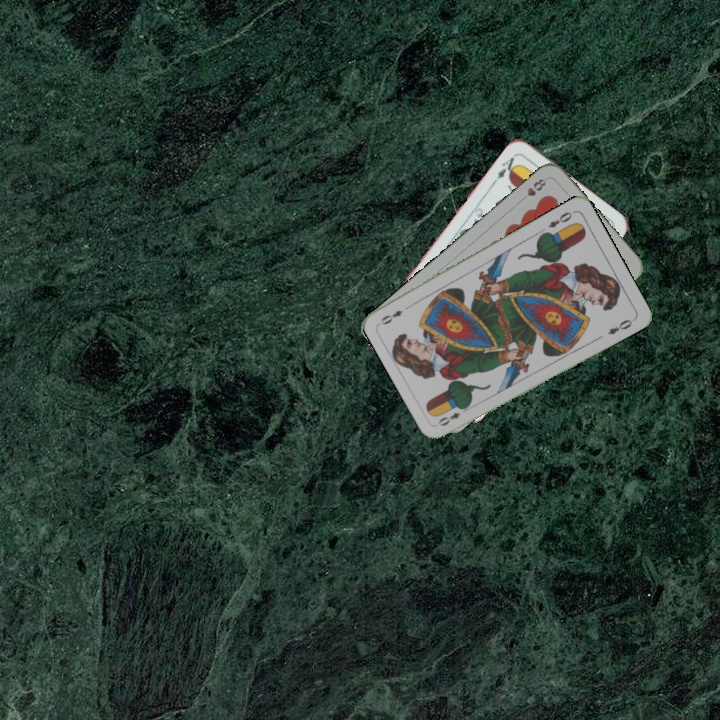EA: (493, 150, 521, 182)
EO: (434, 403, 471, 429), (544, 207, 577, 230)
H8: (523, 174, 548, 199)
